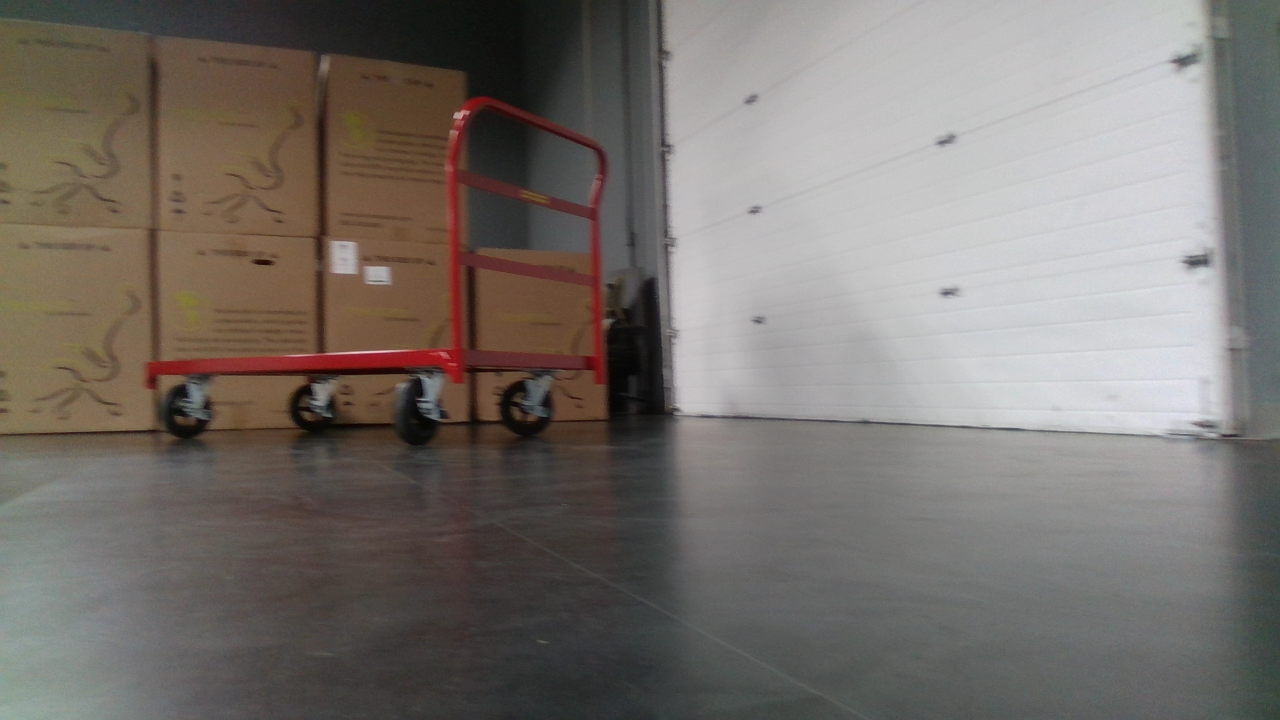Dolly: (141, 94, 630, 450)
Wheel: (491, 376, 557, 437), (395, 378, 450, 449), (157, 383, 214, 440), (288, 382, 344, 434)
